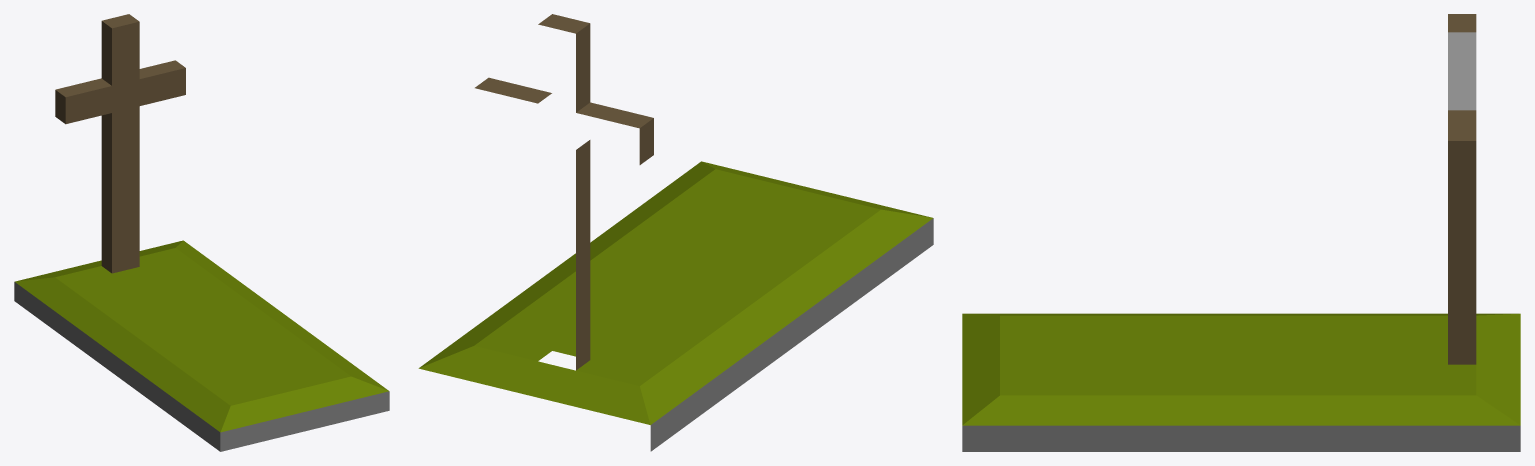
File: TombWithClassicCross.glb
The picture shows the model from 3 angles, left to right: view 1: azimuth 30°, elevation 25°; view 2: azimuth 150°, elevation 25°; view 3: azimuth 270°, elevation 25°; orthographic projection. The views are drawn at different scales.
Visible parts, largest first — view 1: TombWithClassicCross; view 2: TombWithClassicCross; view 3: TombWithClassicCross.
Boxes of the visible parts, <box> form: TombWithClassicCross: <box>14,14,389,451</box>; TombWithClassicCross: <box>418,14,933,451</box>; TombWithClassicCross: <box>962,14,1520,451</box>.
Bounding box in the file's own units: 0.9 × 1.4 × 1.9.
